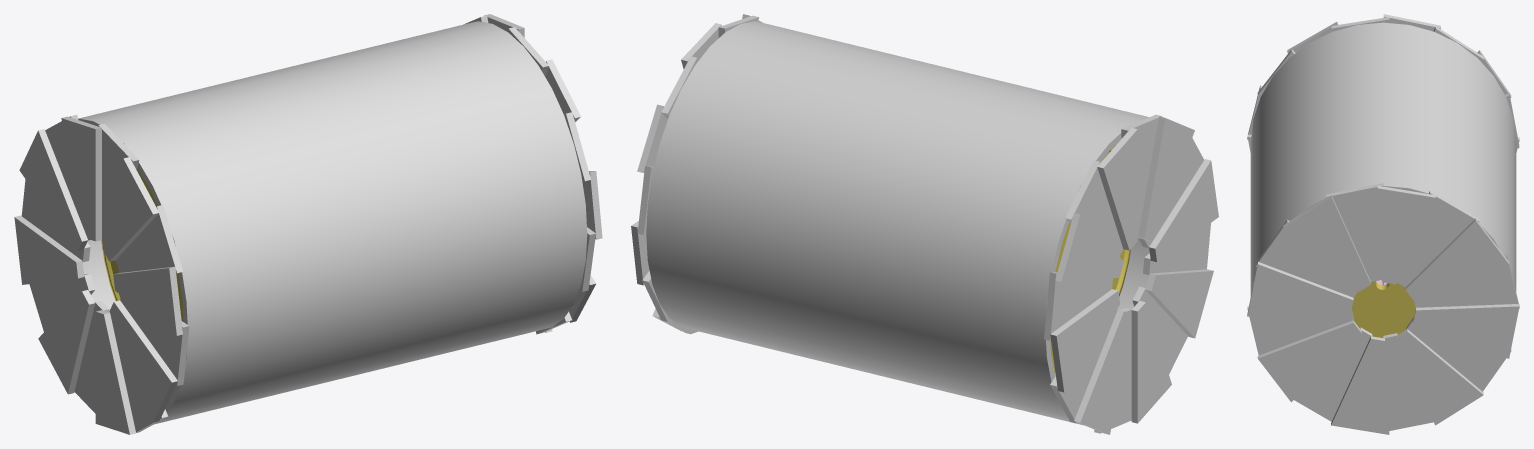
File: atlas_02.fbx
3 renders of one model, left to right at view 1: azimuth 30°, elevation 25°; view 2: azimuth 150°, elevation 25°; view 3: azimuth 270°, elevation 25°, orthographic. The views are drawn at different scales.
Visible parts, largest first — view 1: zone4, zone3; view 2: zone4, zone3; view 3: zone4, zone3.
Part boxes in pixels (x1=…): zone4: x1=14, y1=14, x2=602, y2=434; zone3: x1=101, y1=168, x2=183, y2=321; zone4: x1=631, y1=14, x2=1218, y2=434; zone3: x1=1050, y1=147, x2=1130, y2=375; zone4: x1=1247, y1=14, x2=1519, y2=434; zone3: x1=1351, y1=281, x2=1415, y2=337.
Bounding box in the file's own units: 106 × 70.37 × 70.37.
